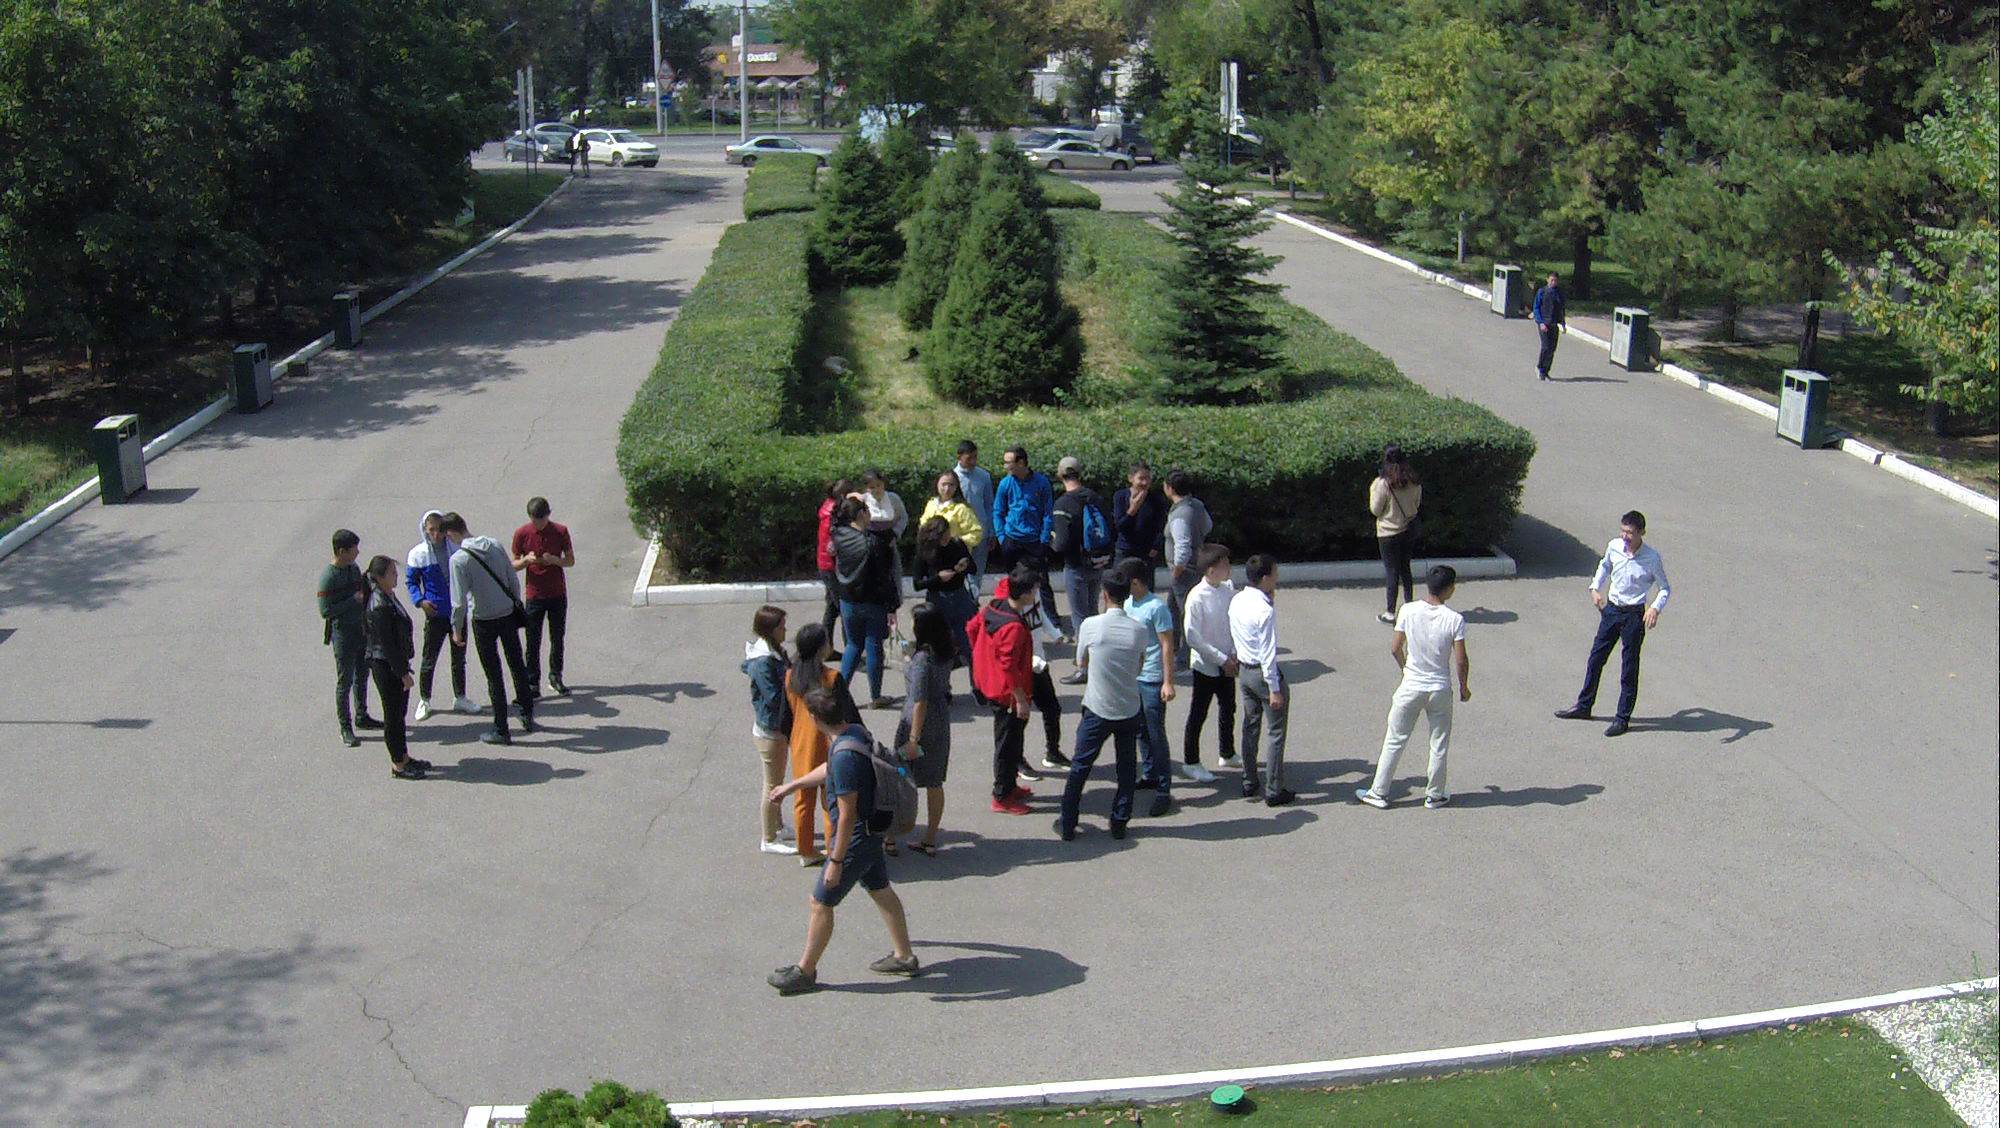person: (743, 685, 932, 999), (1357, 562, 1476, 818), (1557, 505, 1668, 743), (730, 603, 805, 878), (1057, 587, 1135, 849), (1122, 553, 1199, 814), (1178, 545, 1257, 791), (968, 574, 1041, 822), (351, 562, 428, 793), (297, 526, 374, 749), (1239, 555, 1299, 822), (822, 501, 899, 697), (1362, 458, 1430, 630), (526, 518, 572, 724), (987, 443, 1043, 560), (1053, 458, 1101, 564), (1532, 266, 1568, 391), (1162, 468, 1203, 560), (1118, 478, 1149, 570), (945, 437, 989, 497)
